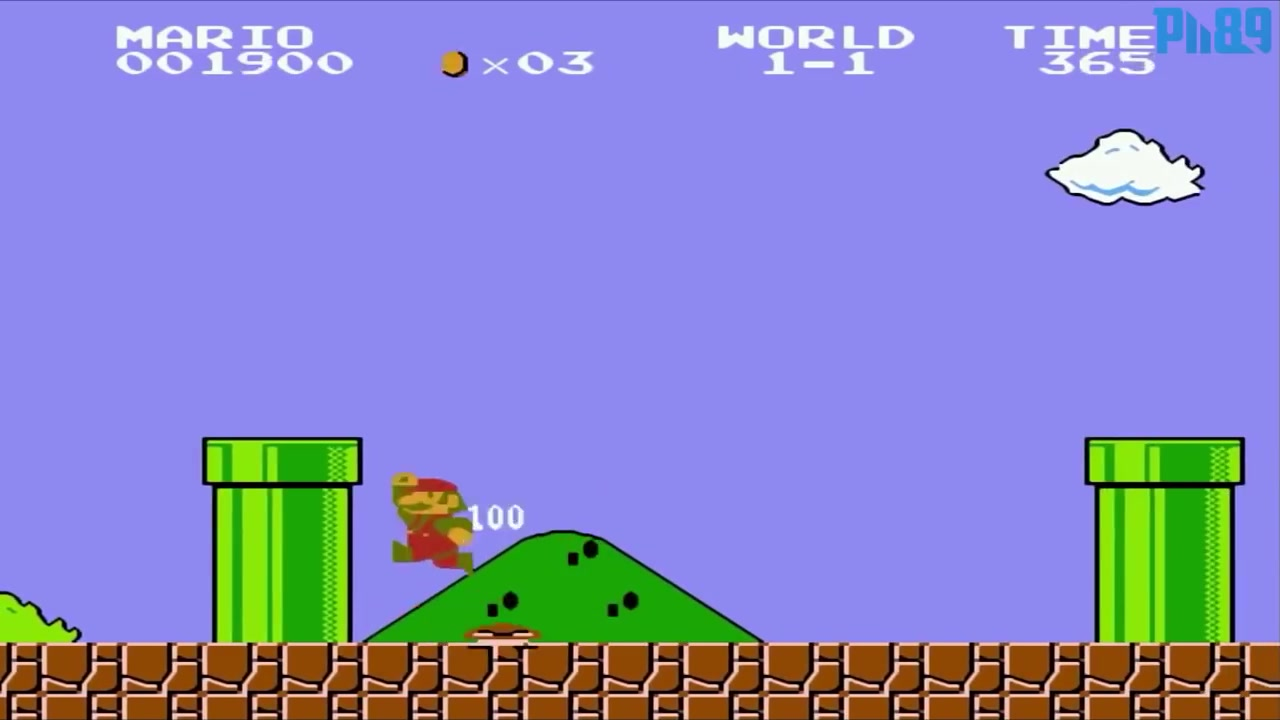mario: (384, 468, 475, 574)
